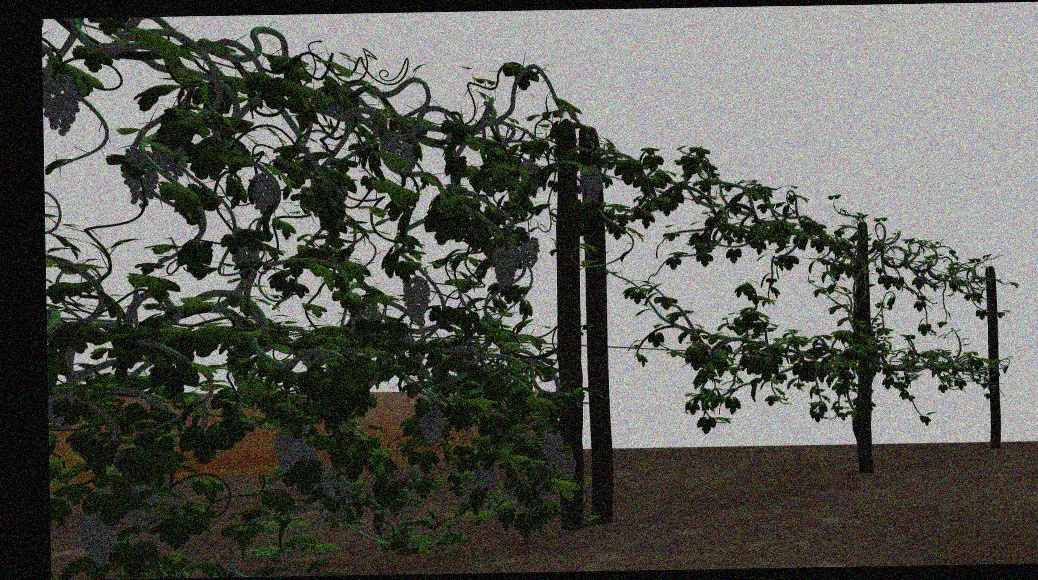grape: (76, 506, 117, 567), (42, 73, 80, 137), (121, 147, 157, 208), (271, 425, 307, 470), (401, 273, 430, 323), (491, 242, 520, 290), (251, 172, 280, 216), (415, 404, 444, 447), (156, 145, 188, 181), (320, 469, 352, 501), (578, 165, 603, 203), (539, 430, 564, 463), (517, 235, 540, 269), (474, 463, 499, 491), (555, 452, 576, 481)
